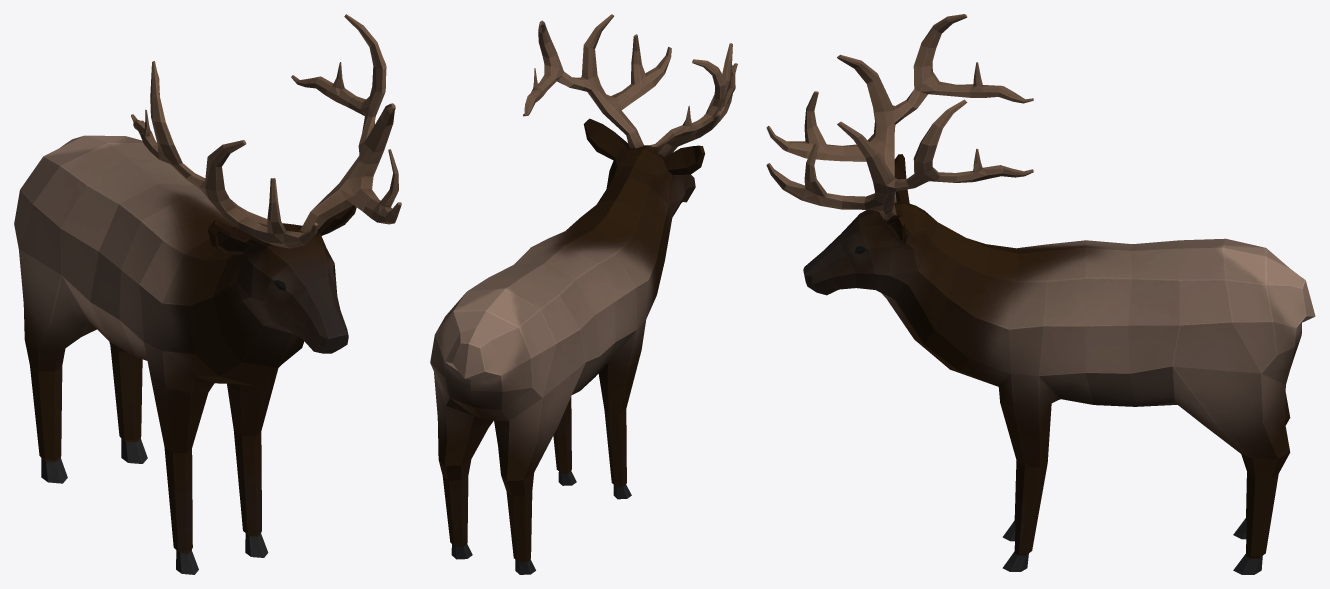
File: elk.glb
The picture shows the model from 3 angles, left to right: view 1: azimuth 30°, elevation 25°; view 2: azimuth 150°, elevation 25°; view 3: azimuth 270°, elevation 25°; orthographic projection. The views are drawn at different scales.
Parts seen in each view (by area): view 1: Elk_mesh; view 2: Elk_mesh; view 3: Elk_mesh.
Boxes of the visible parts, x1,y1,x2,y2 form: Elk_mesh: [14, 14, 401, 574]; Elk_mesh: [430, 14, 737, 574]; Elk_mesh: [766, 14, 1315, 574].
Bounding box in the file's own units: 7.04 × 15.74 × 15.79.
1 material, 1 textured.
